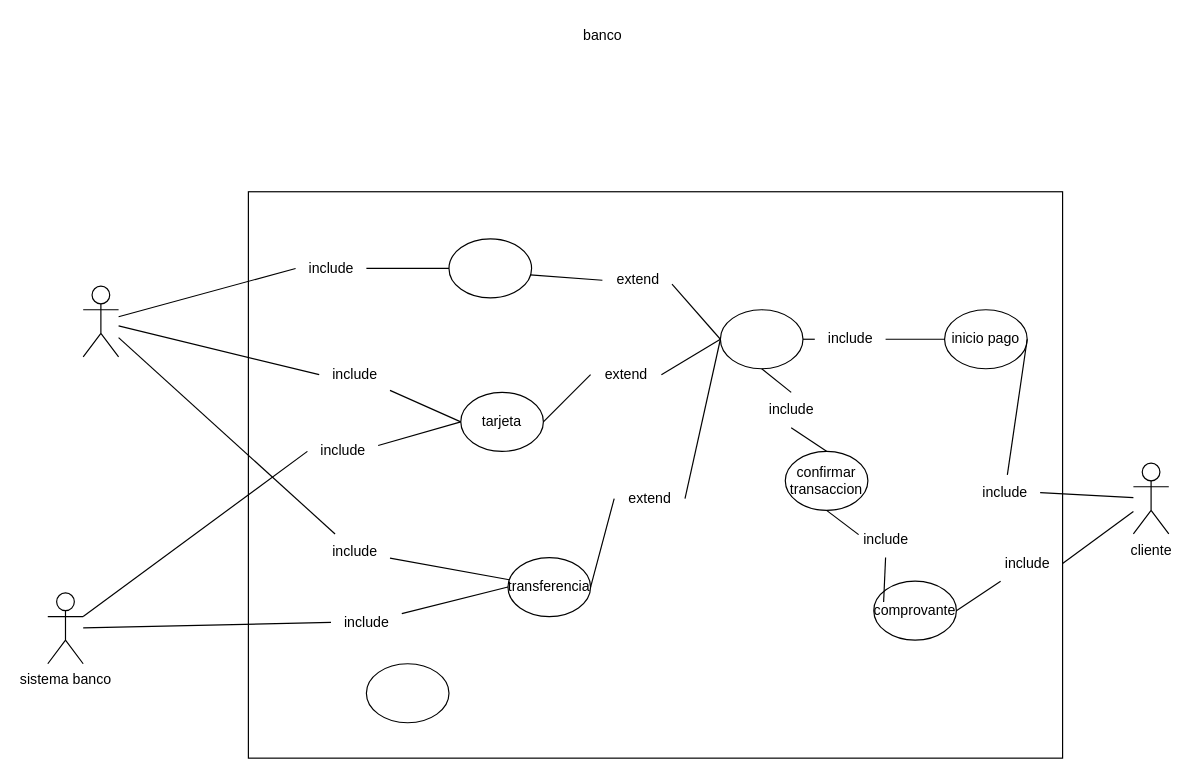
Image size: 1192x779. Some labels were removed from this diagram. Each missing label, with the centre of its shape:
billetera onine: pixel 490 268
metodo pago: pixel 761 339
pago: pixel 100 321
